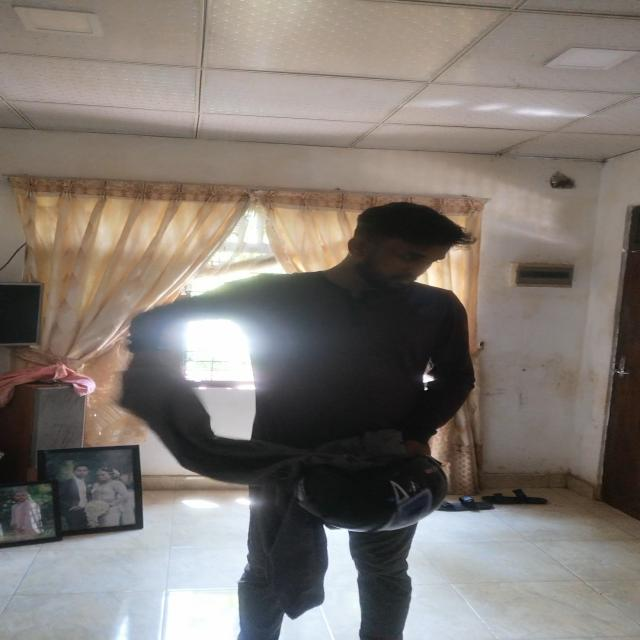Person: (195, 191, 488, 640)
